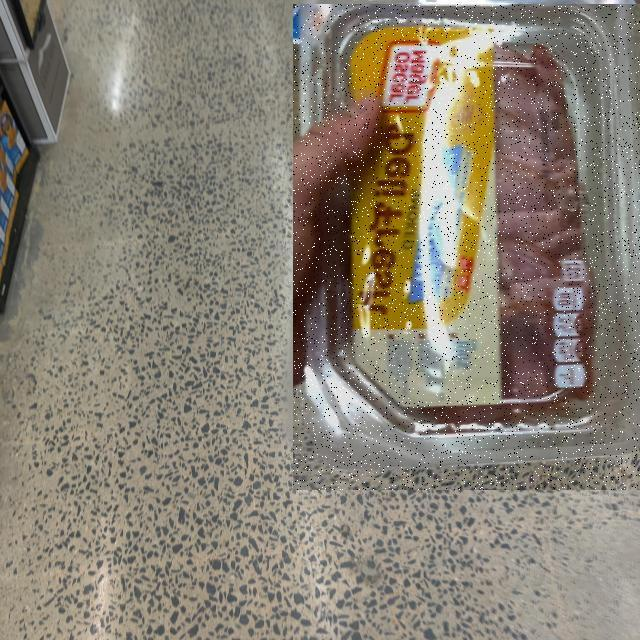Meat: (293, 4, 640, 490)
